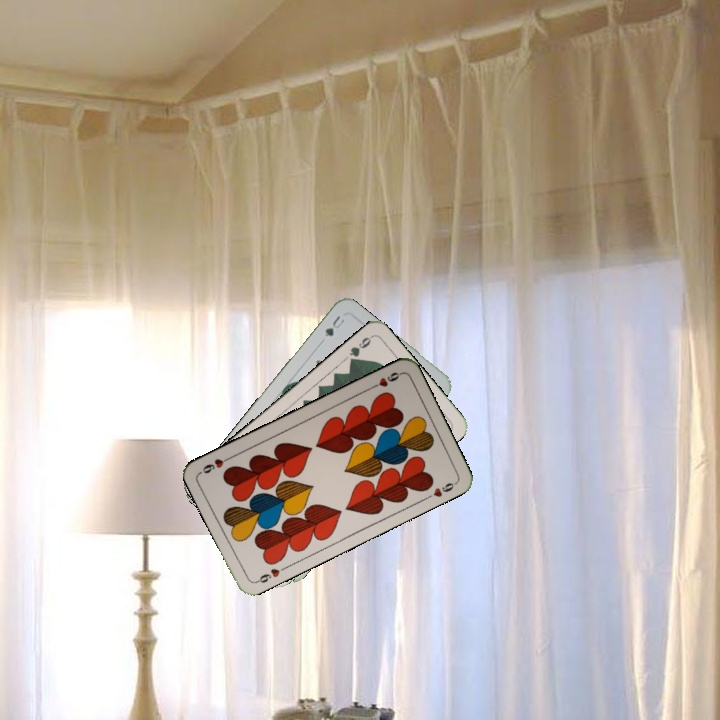G9: (345, 332, 375, 367)
GU: (320, 311, 348, 339)
H9: (366, 368, 404, 392), (251, 562, 289, 586)
